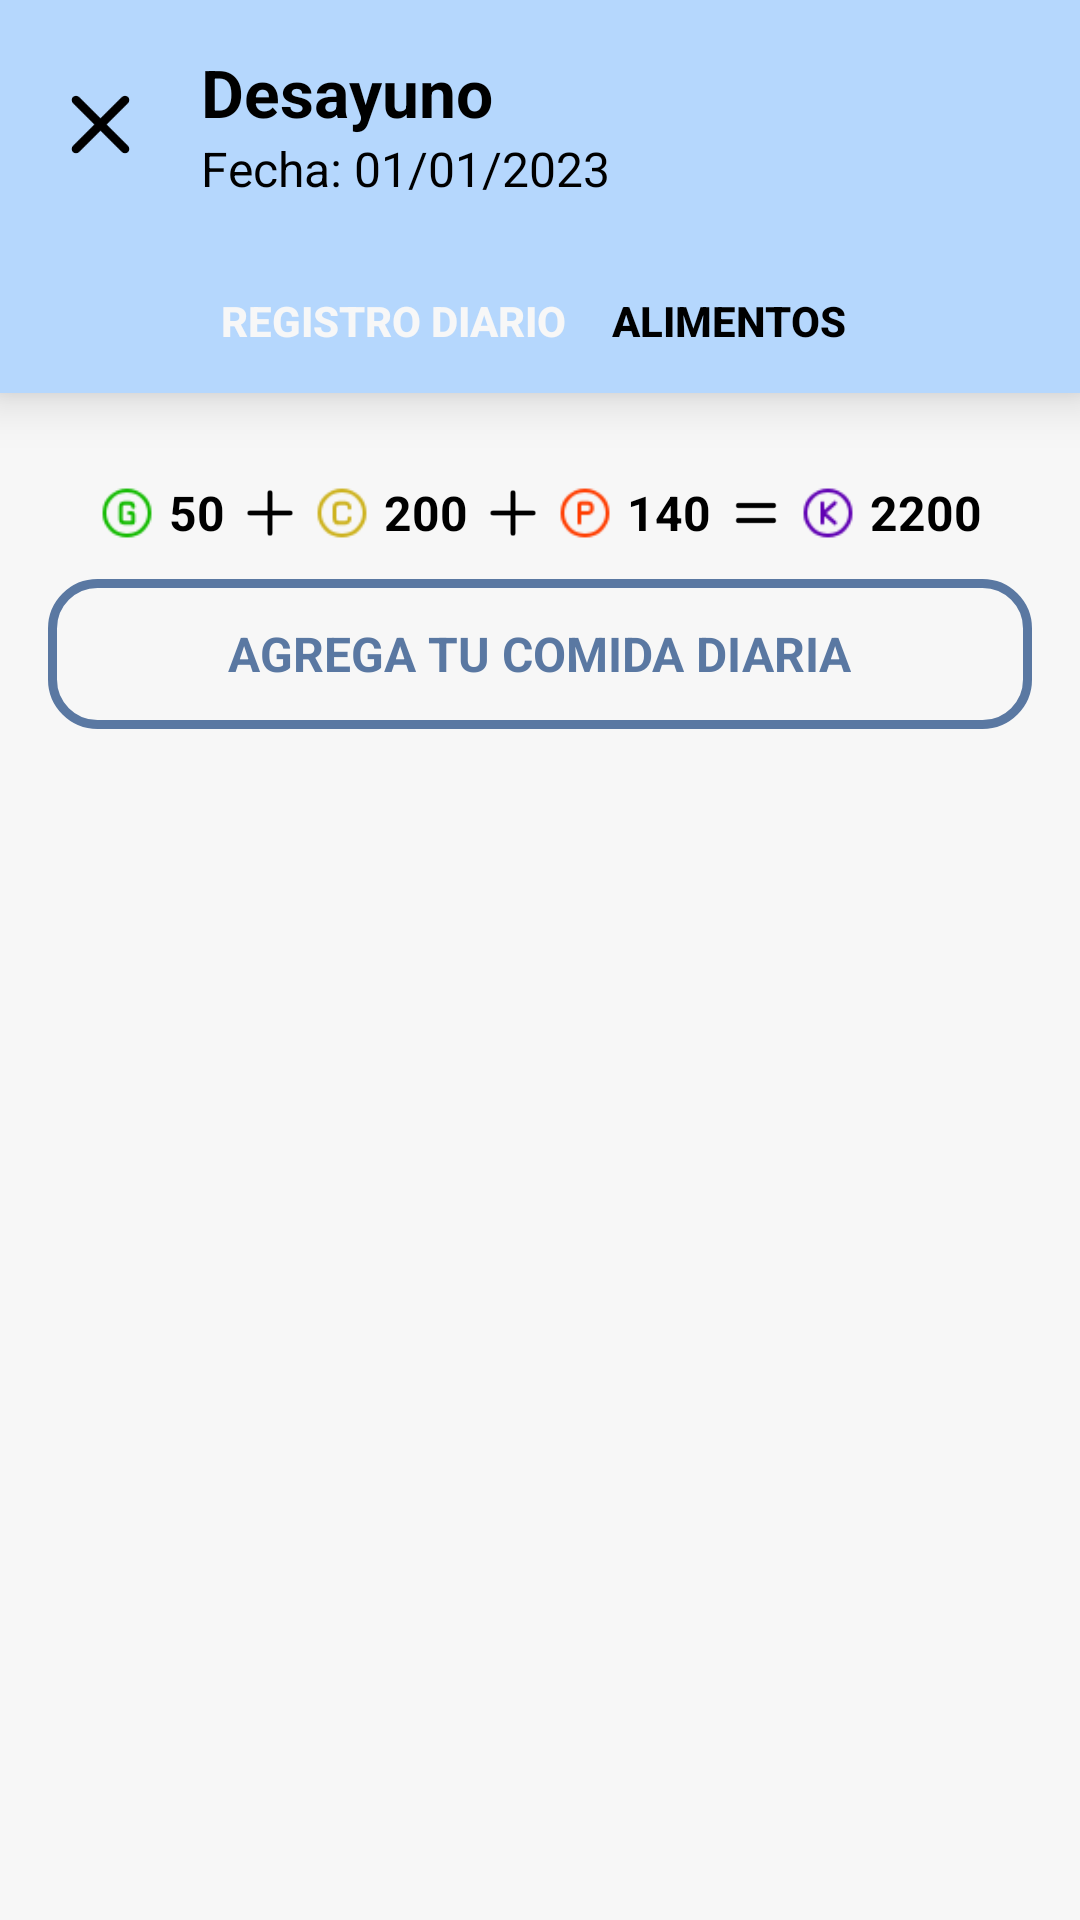

Point at icon controls on the screen. Image size 1080 × 1920, points as point (x, y).
calories letter: point (828, 513)
carbs letter: point (342, 513)
close: point (100, 125)
equals: point (755, 513)
fats letter: point (127, 513)
plus: point (270, 513), point (513, 513)
proteins letter: point (585, 513)
